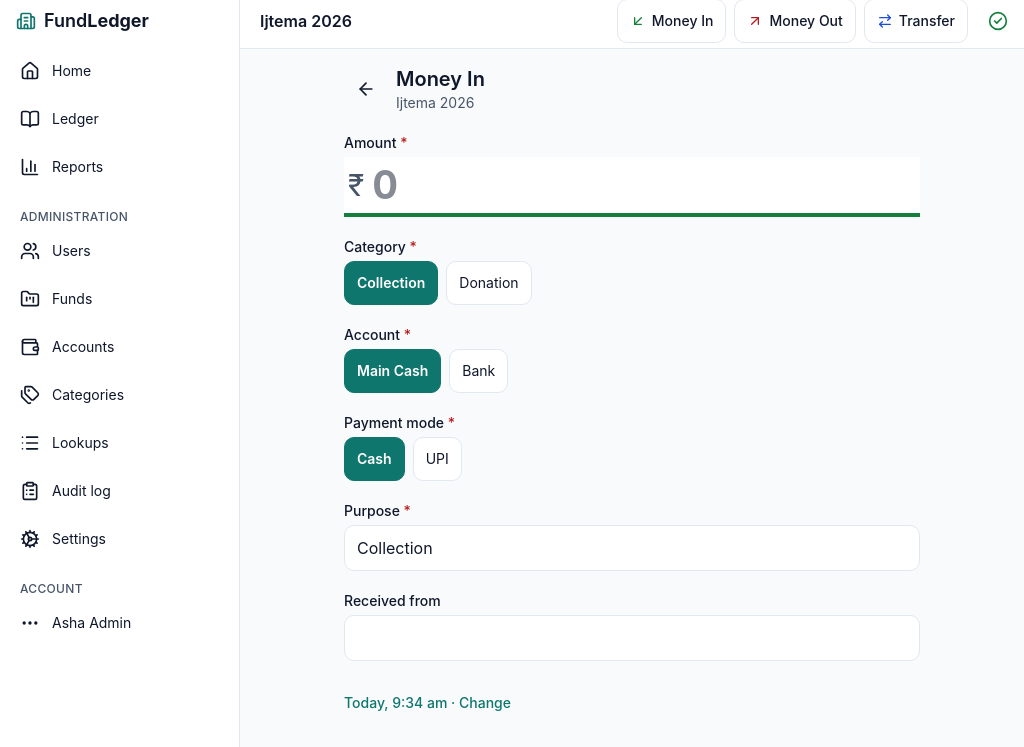
Test case: Money In form › groups the amount live in the Indian system and records after a confirmation step
Type "125000" into the field labelled "Amount *" at (644,185), box [372,157,916,213]
(page scrolled)
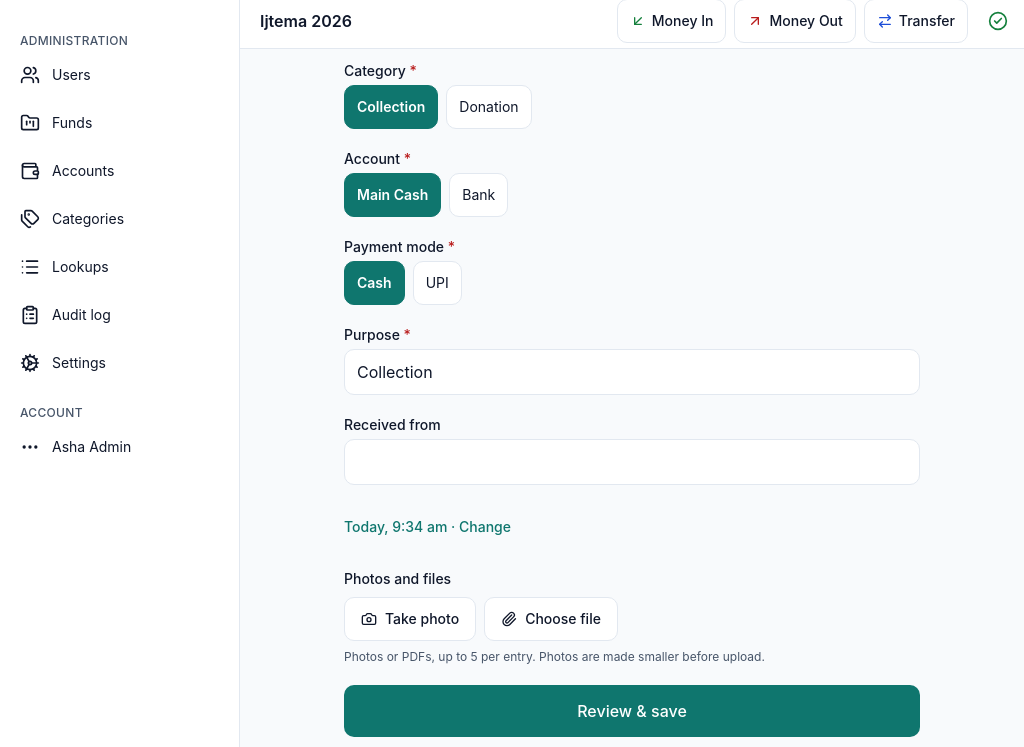
Expected: the radio button labelled "Collection" is checked, [344,85,438,129]
Expected: the field labelled "Purpose *" holds "Collection", [345,350,919,394]
Click the button "Review & save" at (632,711), box [344,685,920,737]
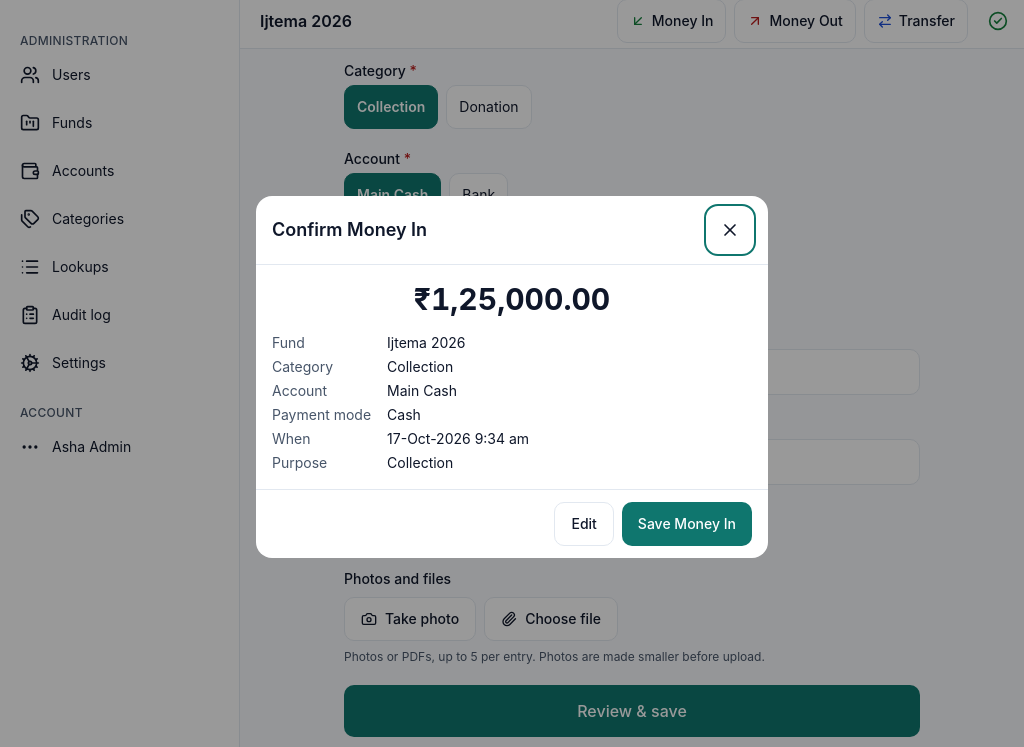
Now the text "₹1,25,000.00" is shown, box [414,281,610,317]
Click the button "Save Money In" at (687,524), box [622,502,752,546]
(page scrolled)
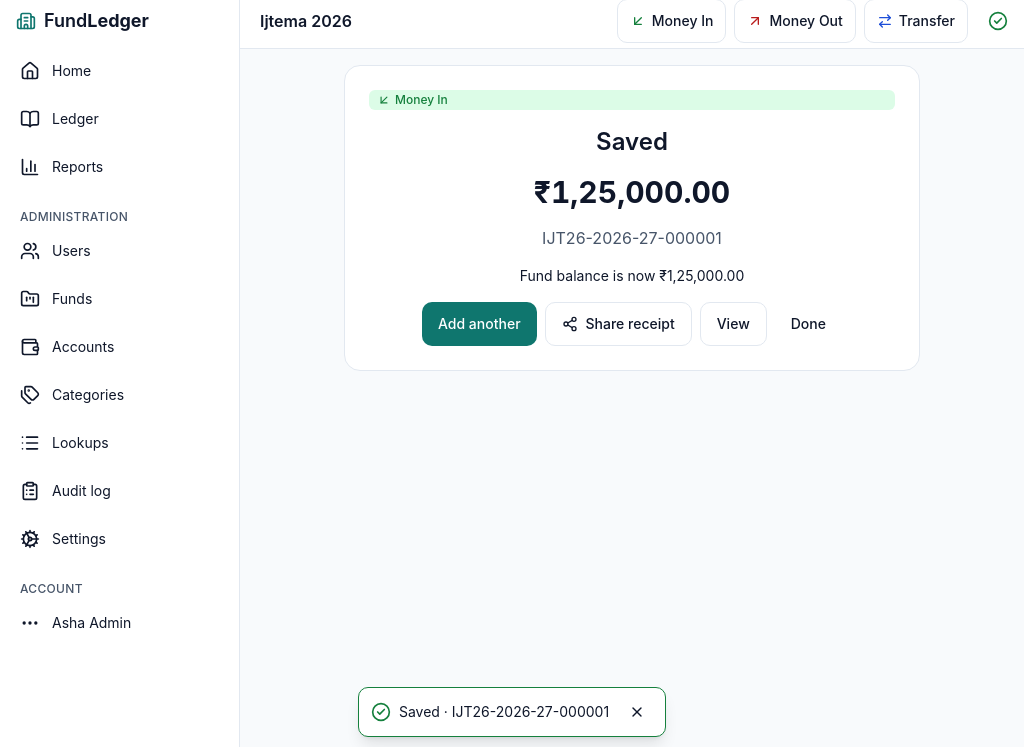
Now the text "IJT26-2026-27-000001" is shown, box [542,228,722,248]
